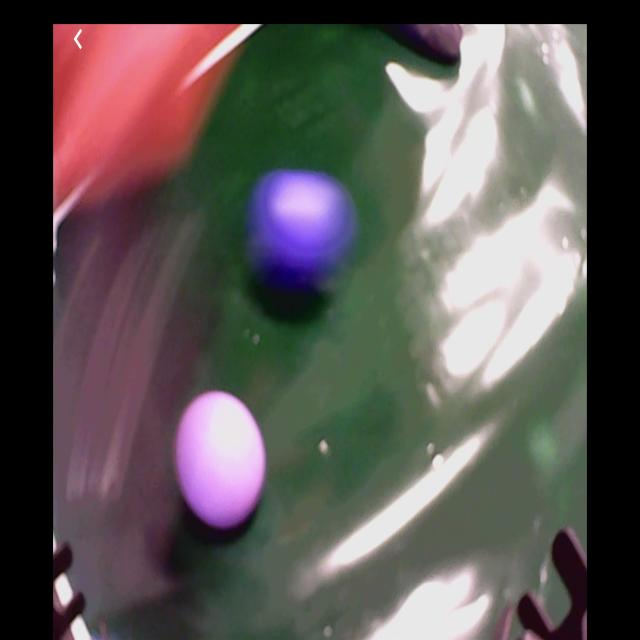ball: (175, 393, 266, 534), (264, 169, 337, 279)
